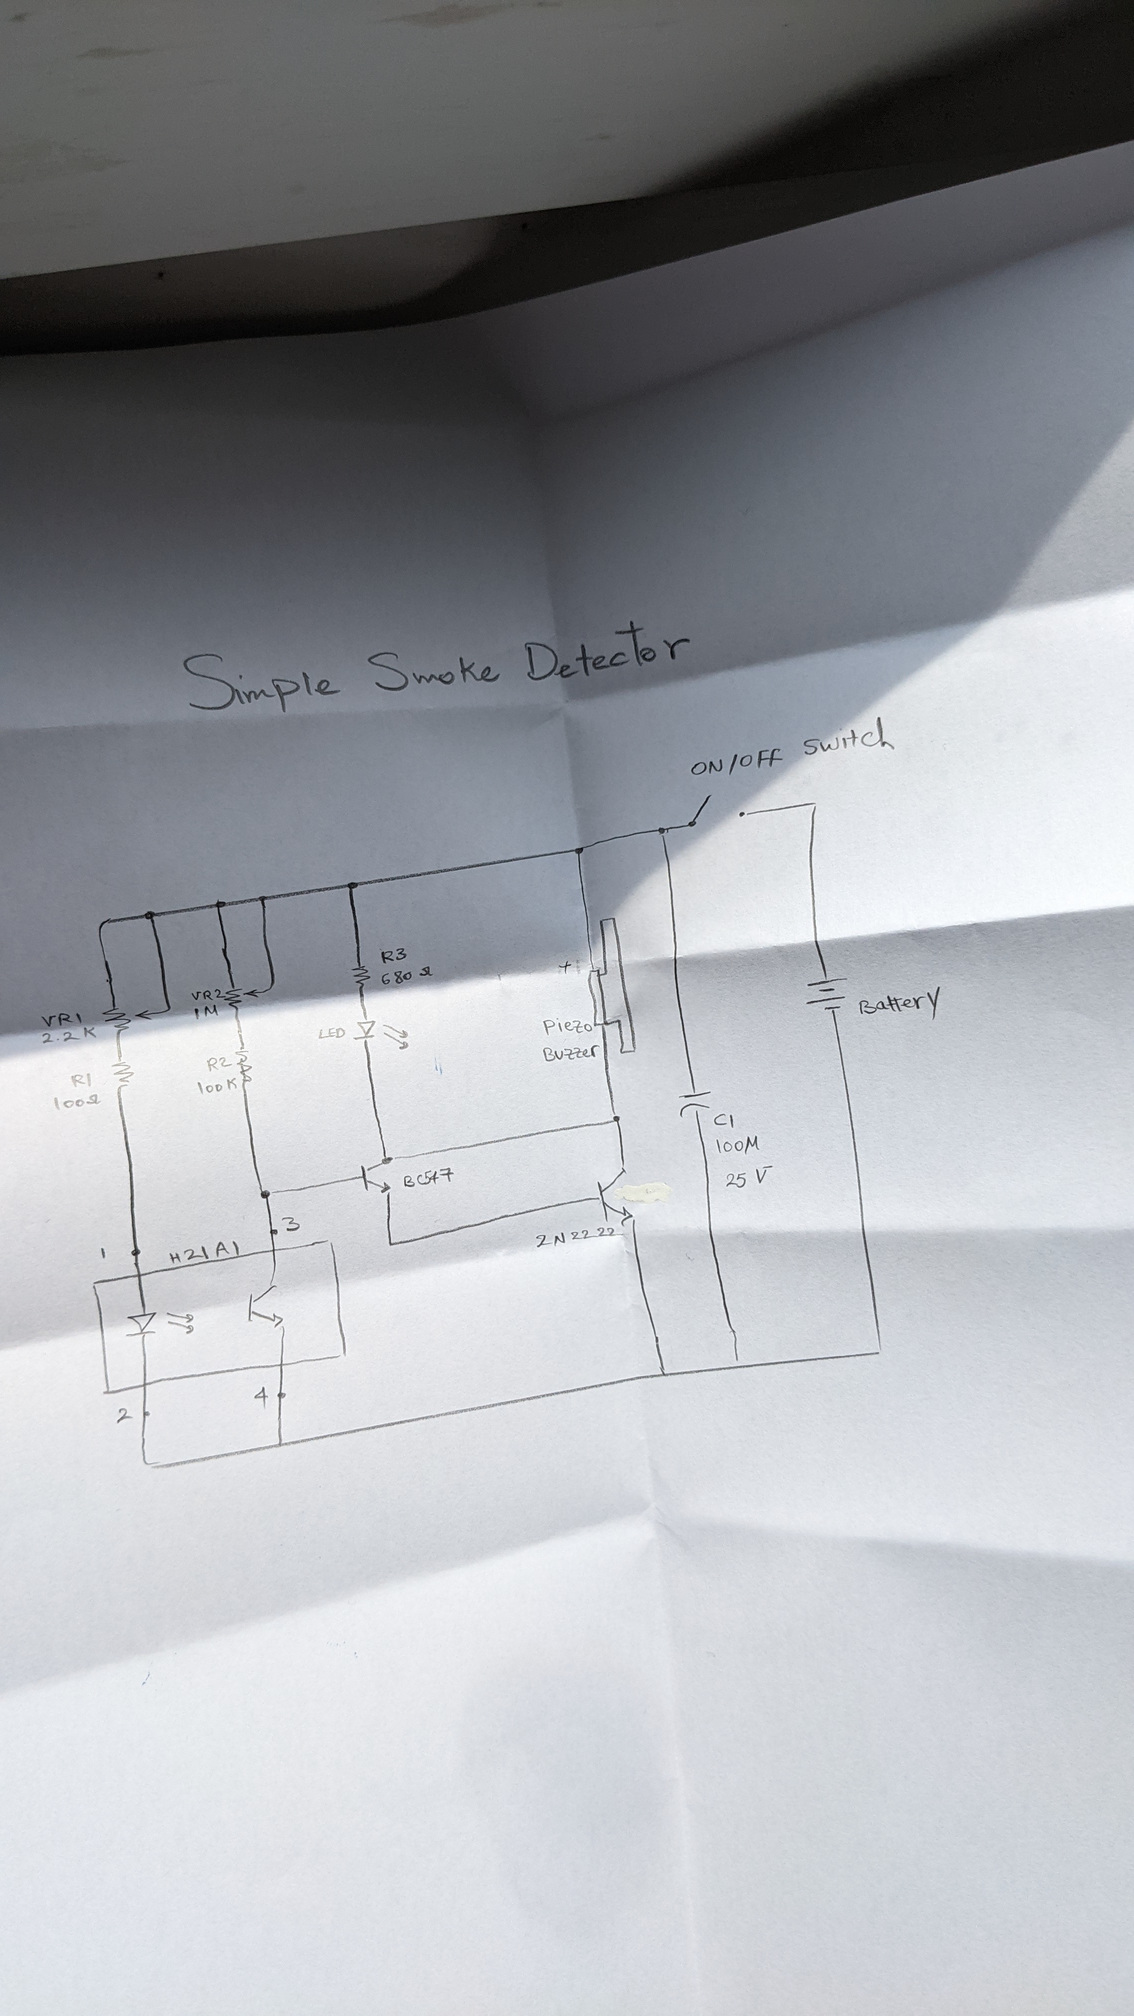capacitor.unpolarized: (676, 1088, 714, 1119)
diode.light_emitting: (352, 1015, 413, 1051)
integrated_circuit: (89, 1238, 350, 1397)
junction: (140, 1457, 161, 1472), (96, 917, 112, 933), (258, 1187, 276, 1200), (656, 1364, 672, 1379), (213, 897, 228, 911), (143, 908, 158, 922), (609, 1110, 623, 1126), (732, 1357, 745, 1374), (572, 845, 587, 857), (656, 825, 672, 838), (264, 980, 278, 993), (874, 1343, 886, 1357), (345, 881, 360, 892), (809, 799, 821, 811), (276, 1437, 287, 1450), (386, 1238, 397, 1250), (256, 893, 269, 903), (163, 1005, 174, 1014)
optocoupler: (120, 1281, 292, 1340)
resistor: (109, 1054, 136, 1095), (233, 1045, 253, 1087), (349, 962, 372, 989)
resistor.adjustable: (100, 1004, 154, 1036), (222, 983, 262, 1011)
speaker: (584, 915, 640, 1055)
switch: (687, 791, 752, 829)
text: (180, 618, 694, 714), (688, 714, 896, 778), (857, 984, 944, 1020), (534, 1225, 618, 1252), (168, 1238, 242, 1266), (402, 1164, 456, 1189), (723, 1164, 775, 1189), (540, 1043, 601, 1063), (40, 1025, 100, 1045), (379, 964, 433, 986), (541, 1015, 593, 1037), (51, 1091, 102, 1112), (714, 1134, 762, 1156), (195, 1074, 240, 1097), (40, 1009, 84, 1029), (379, 944, 408, 965), (188, 987, 226, 1002), (317, 1025, 348, 1043), (192, 1002, 222, 1020), (205, 1055, 234, 1073), (280, 1212, 303, 1234), (712, 1110, 737, 1131), (252, 1385, 271, 1410), (114, 1405, 134, 1426), (69, 1070, 93, 1088), (97, 1242, 111, 1264)
transistor: (593, 1159, 638, 1227), (359, 1153, 400, 1198)
voltage.dc: (802, 971, 852, 1014)
